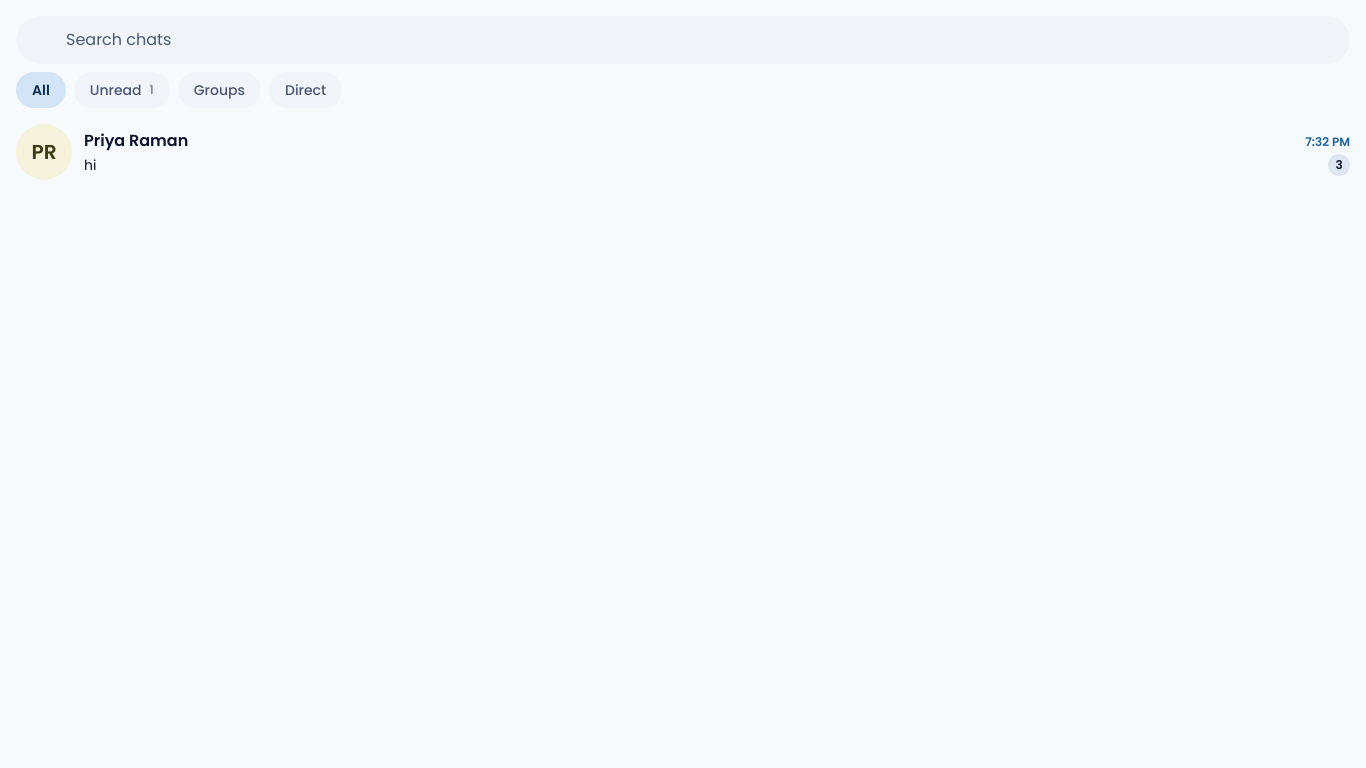
Test case: chat row actions › offers Mark as read and Unmute when a chat is already unread and muted
Step 1. Right-click the button "PR Priya Raman 7:32 PM hi 3" → (44,152), box [0,116,1365,188]
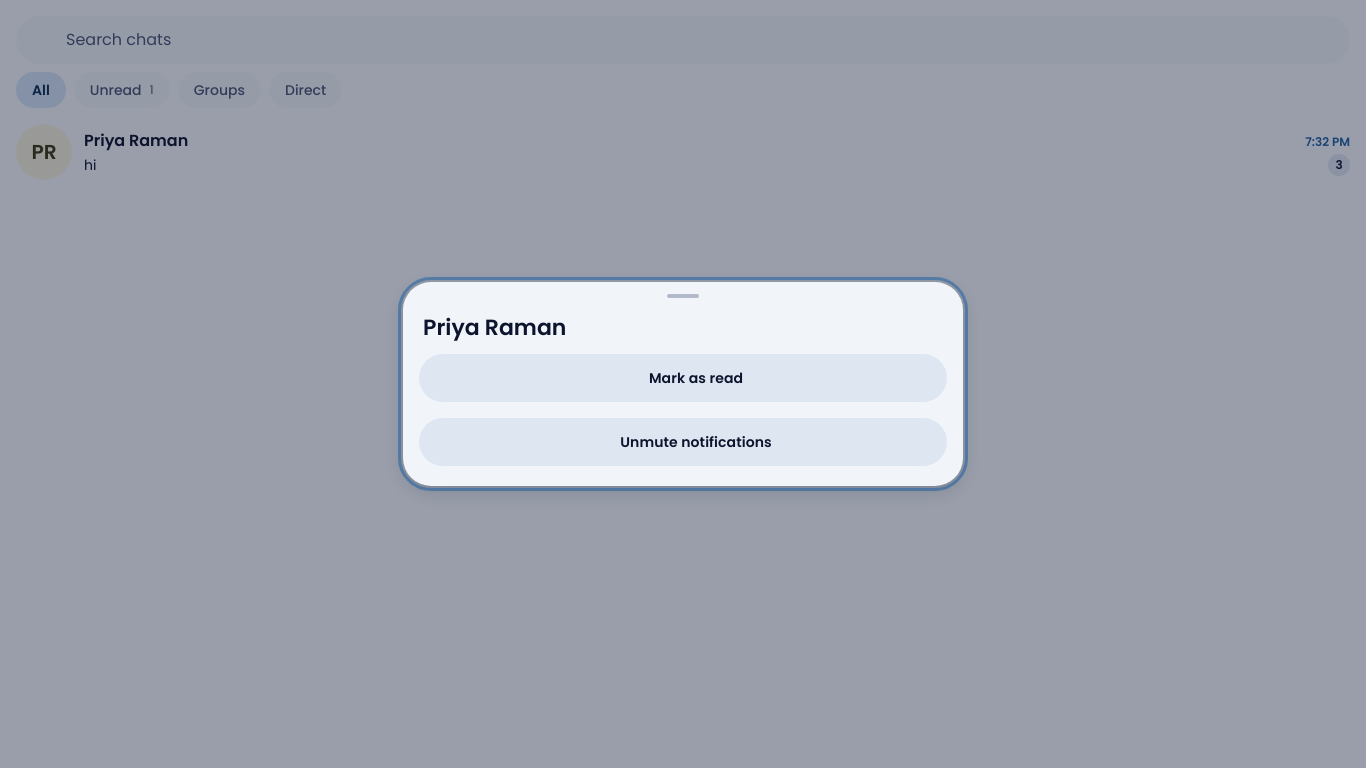
Expected: the button "Mark as read" is shown, [419,354,947,402]
Expected: the button "Unmute notifications" is shown, [419,418,947,466]
